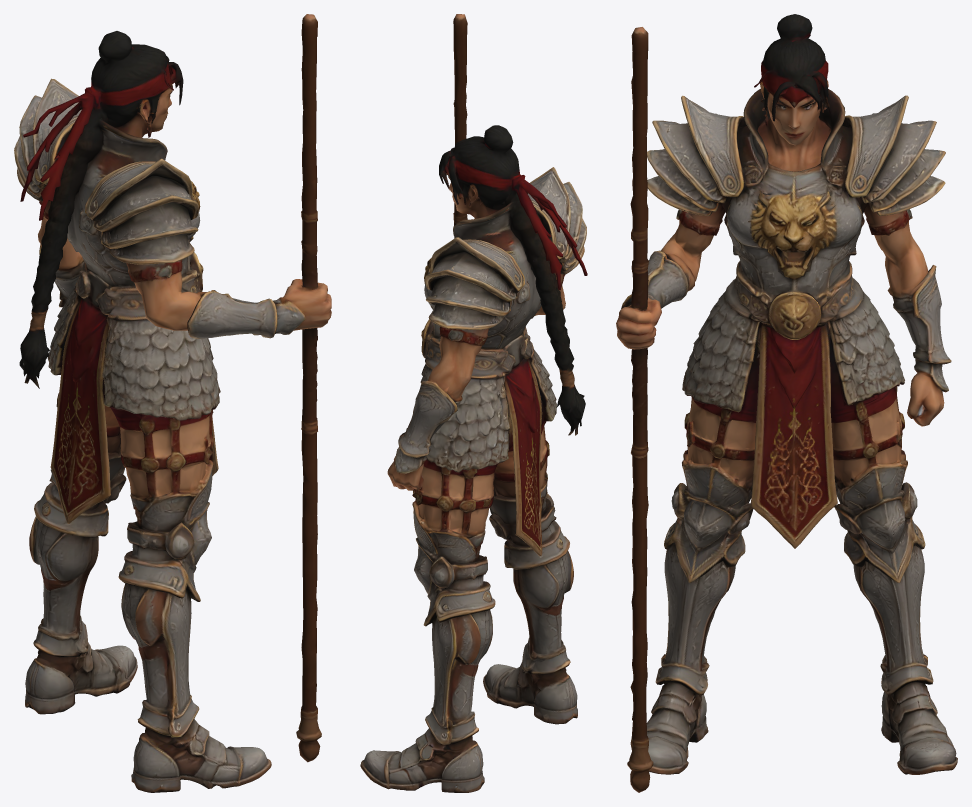
The model's file is vanguardalt_T4-tripo.glb.
3 views of the same model, side by side, from view 1: azimuth 30°, elevation 25°; view 2: azimuth 150°, elevation 25°; view 3: azimuth 270°, elevation 25° (orthographic). The views are drawn at different scales.
Parts seen in each view (by area): view 1: tripo_node_e4933837-724d-426a-9ab6-2a0fd106917a; view 2: tripo_node_e4933837-724d-426a-9ab6-2a0fd106917a; view 3: tripo_node_e4933837-724d-426a-9ab6-2a0fd106917a.
Boxes of the visible parts, x1=… form: tripo_node_e4933837-724d-426a-9ab6-2a0fd106917a: x1=14, y1=14, x2=331, y2=792; tripo_node_e4933837-724d-426a-9ab6-2a0fd106917a: x1=360, y1=14, x2=587, y2=792; tripo_node_e4933837-724d-426a-9ab6-2a0fd106917a: x1=616, y1=14, x2=957, y2=792.
Size of the model in its own units: 0.3242 by 1 by 0.4003.
1 material, 1 textured.
